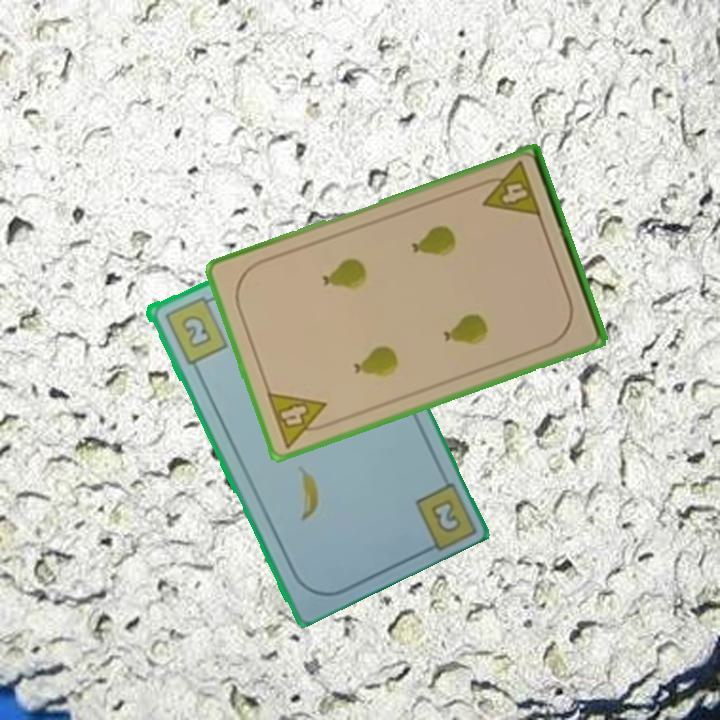2b: (160, 292, 230, 367), (426, 495, 464, 536)
4p: (263, 388, 336, 451), (474, 158, 544, 221)
